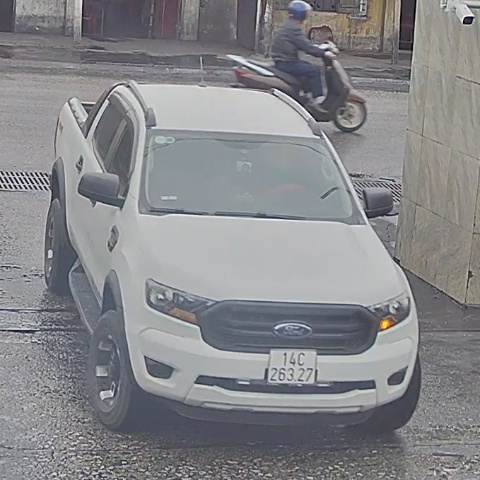vehicle plate: (258, 340, 321, 393)
